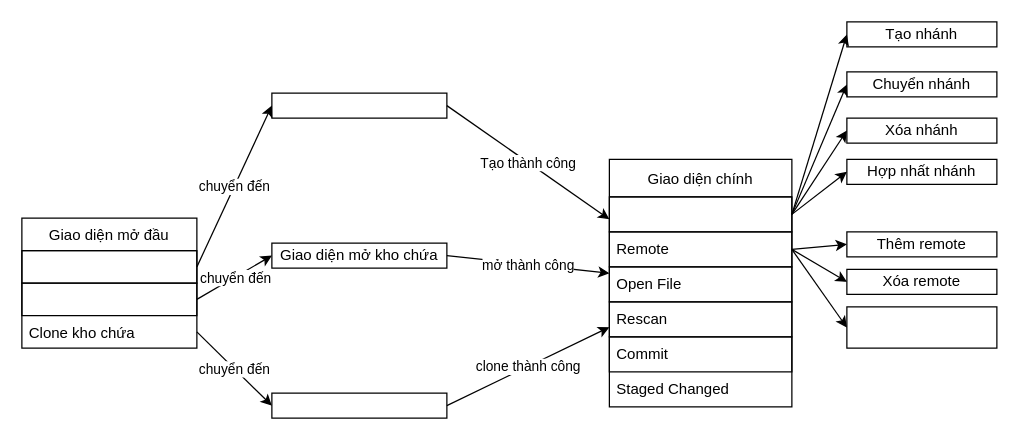
This 1019x440 diagram has some shape labels left out. The shapes that lost their labels are listed below. From the top down, each one's box as (x1, y1, x2, y2) in pixels, then its label:
(271, 92, 447, 118): Giao diện tạo kho chứa
(608, 196, 792, 232): Nhánh
(21, 249, 197, 283): Tạo kho chứa
(21, 282, 197, 316): Mở một kho chứa
(846, 306, 997, 348): Đưa dữ liệu lên remote repository
(271, 392, 447, 418): Giao diện clone kho chứa
